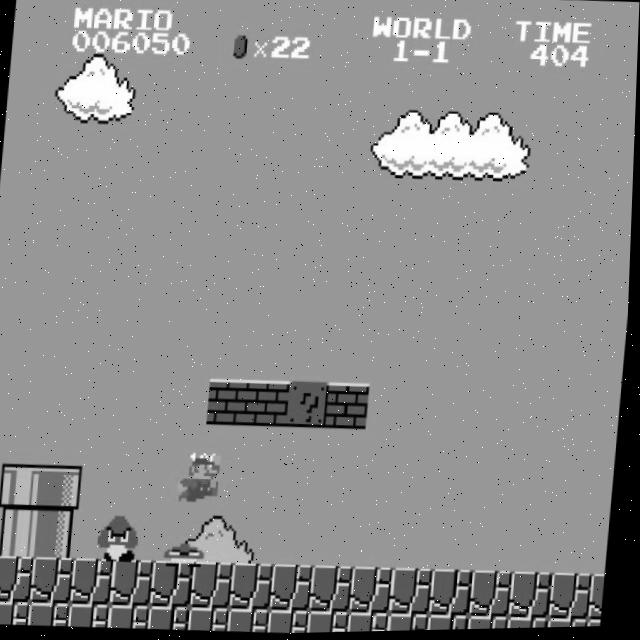1- brick_block: (328, 383, 373, 432), (209, 379, 253, 428), (249, 380, 293, 429)
11- little_mario: (178, 452, 225, 503)
13- mystery_block: (288, 382, 333, 431)
14- pipe: (38, 510, 83, 559), (0, 509, 43, 558)
15- pipe_head: (2, 463, 46, 512), (42, 465, 86, 514)
17- undestructible_block: (34, 556, 79, 605), (114, 559, 159, 608), (154, 560, 199, 609), (313, 566, 358, 615), (353, 567, 398, 616), (393, 569, 438, 618), (433, 570, 478, 619), (513, 573, 558, 622), (74, 558, 119, 606), (473, 572, 518, 620), (194, 562, 238, 611), (234, 563, 278, 612), (553, 574, 597, 623), (274, 565, 318, 613), (0, 555, 39, 604), (32, 602, 75, 628), (72, 603, 115, 629), (112, 604, 155, 630), (152, 606, 195, 632), (232, 609, 275, 635), (192, 608, 235, 633), (271, 610, 314, 635), (311, 612, 354, 634), (351, 613, 394, 634), (0, 601, 35, 626), (391, 614, 434, 633), (593, 576, 609, 623), (431, 615, 474, 632), (471, 617, 514, 631), (511, 618, 554, 631), (551, 619, 594, 630), (591, 621, 606, 629)
8- goomba: (97, 512, 145, 564)
